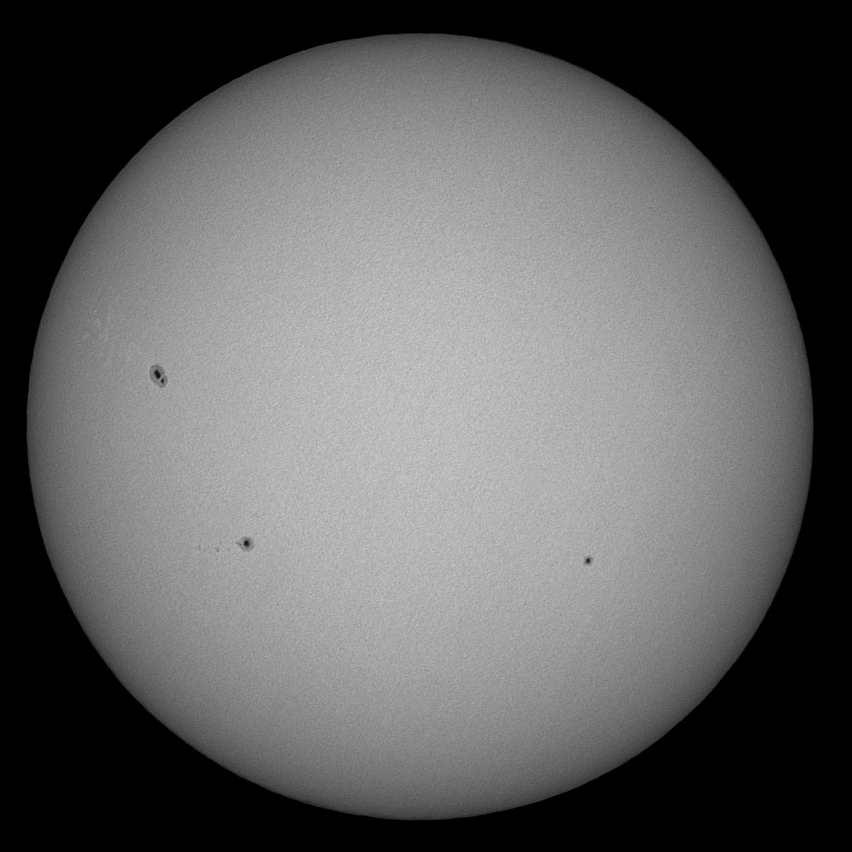sunspot: (147, 361, 172, 391), (233, 532, 260, 554), (579, 551, 598, 569)
